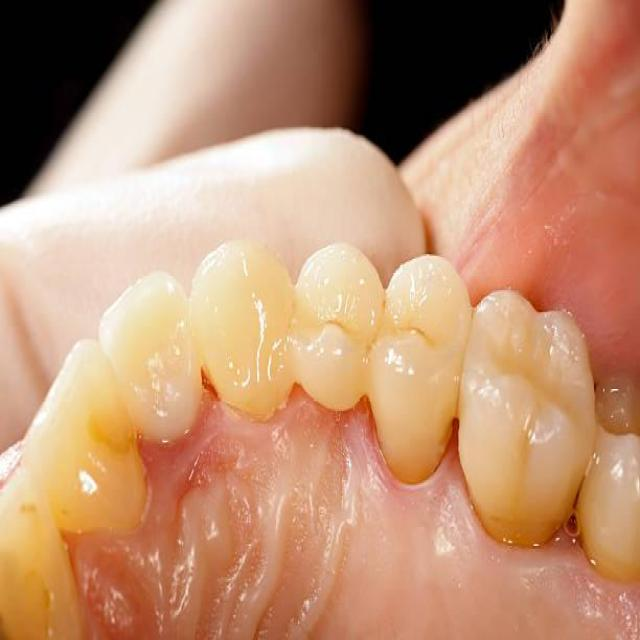caries: (434, 405, 470, 467)
